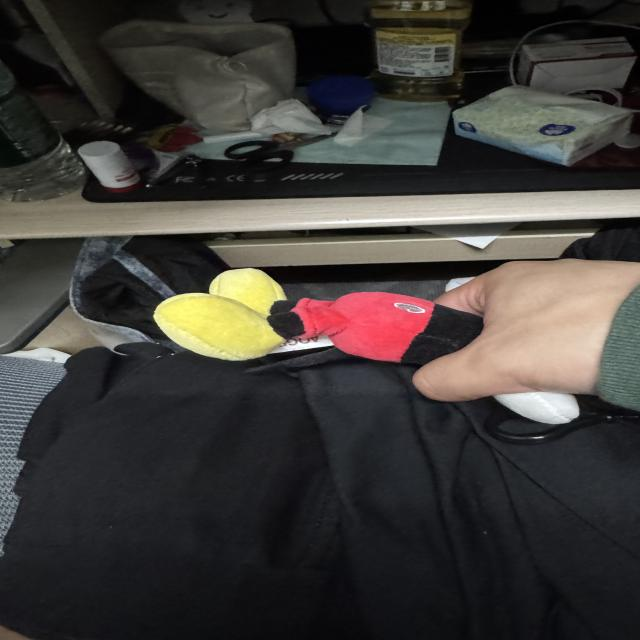mickey: (156, 270, 484, 370)
tissue: (454, 87, 634, 165)
